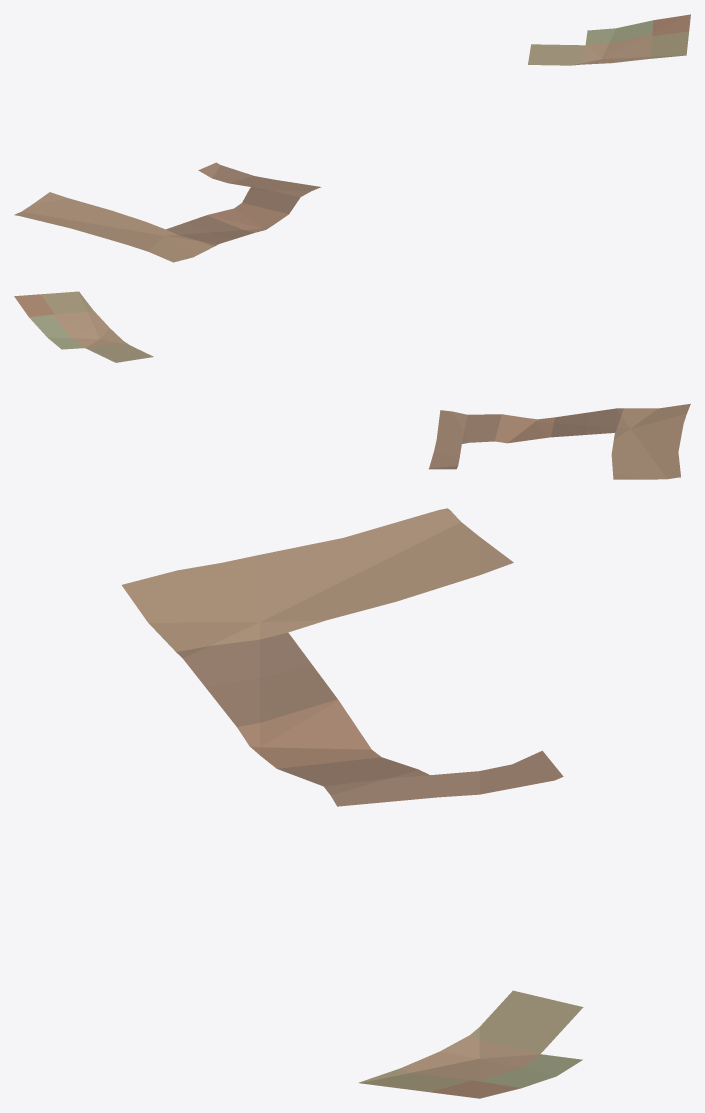
The model's file is farm_-34_-33_soil.glb.
3 renders of one model, top to bottom at view 1: azimuth 30°, elevation 25°; view 2: azimuth 150°, elevation 25°; view 3: azimuth 270°, elevation 25°, orthographic. The views are drawn at different scales.
Parts seen in each view (by area): view 1: geometry_0; view 2: geometry_0; view 3: geometry_0.
Part boxes in pixels (<box>): geometry_0: <box>14,14,690,262</box>; geometry_0: <box>14,291,690,479</box>; geometry_0: <box>121,508,583,1098</box>.
Size of the model in its own units: 555 by 43.1 by 168.
